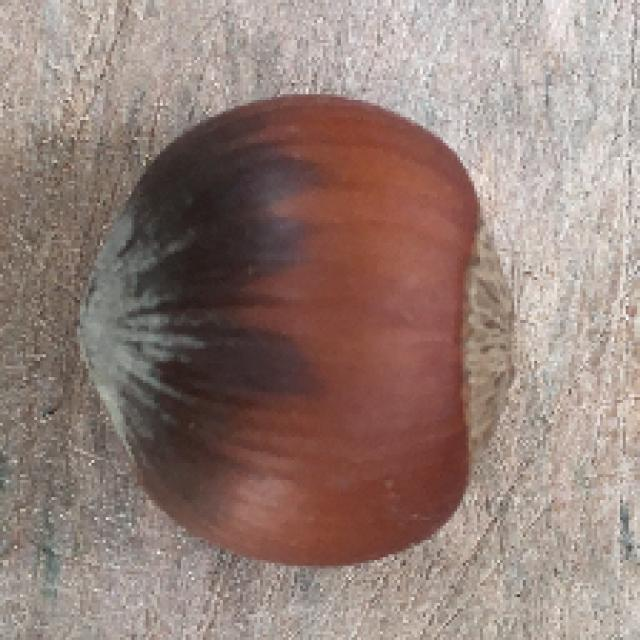damagedHazelnut: (80, 73, 538, 580)
